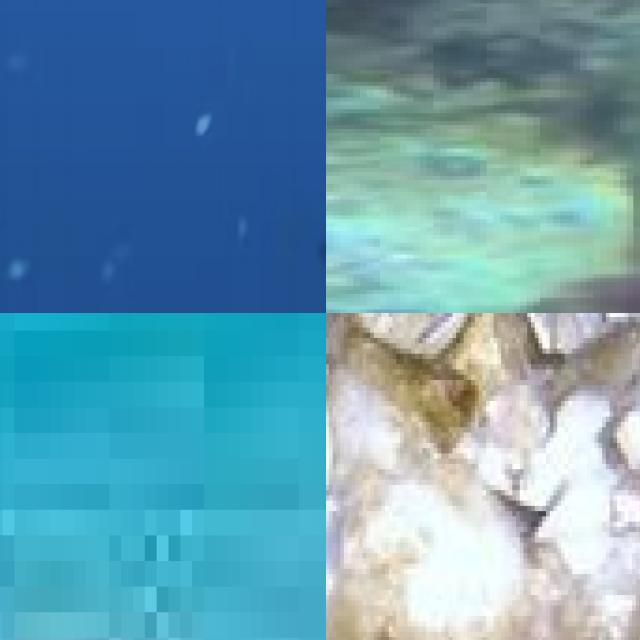fish: (0, 313, 326, 638), (0, 0, 326, 313)
